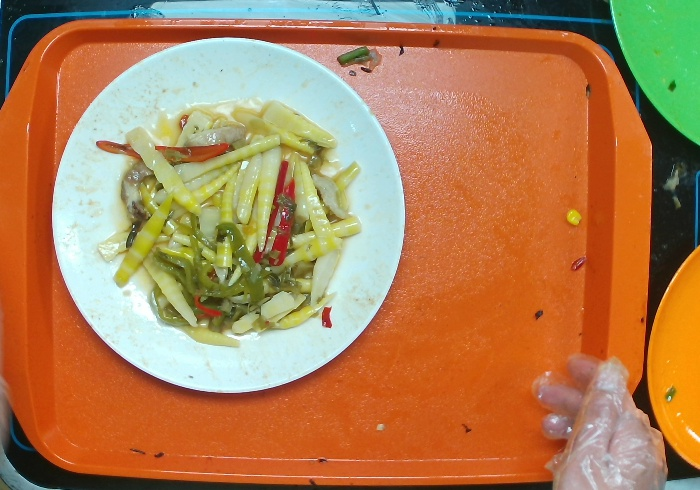HZYJPL-Bai_Se_Yuan_Pan: (47, 36, 408, 396)
